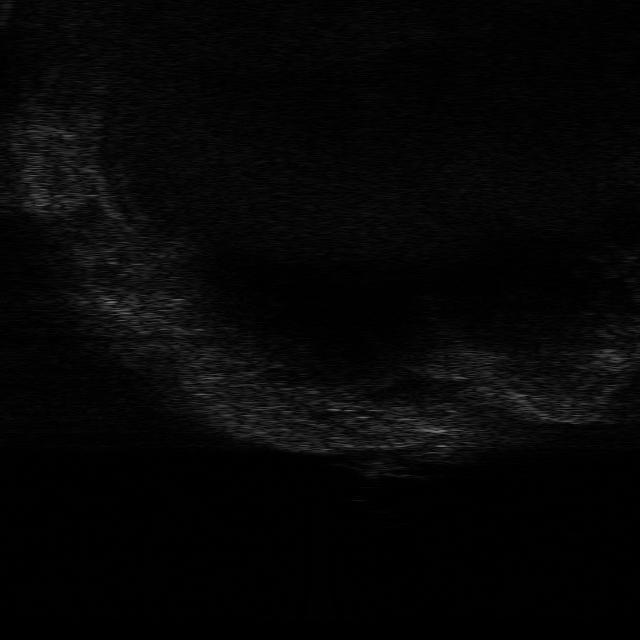plane: (338, 458, 423, 482)
